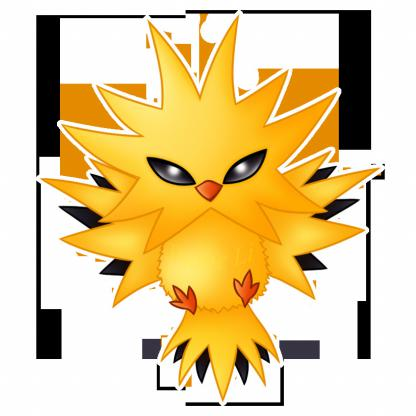Zapdos: (1, 17, 385, 403)
